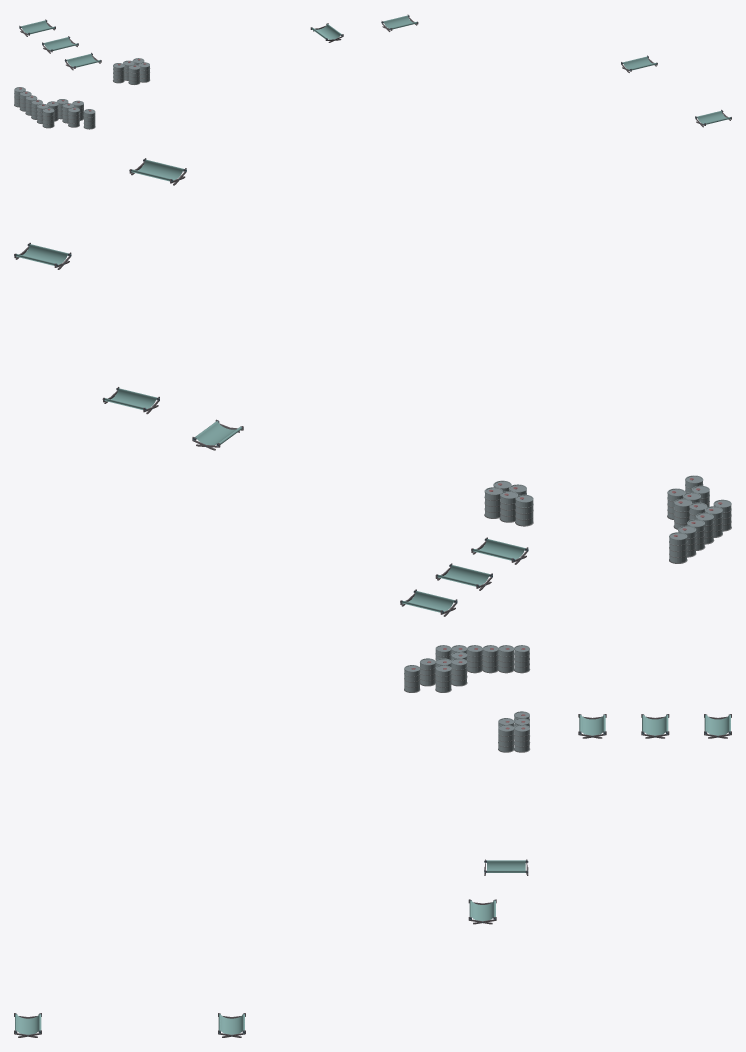
The picture shows the model from 3 angles, top to bottom: view 1: azimuth 30°, elevation 25°; view 2: azimuth 150°, elevation 25°; view 3: azimuth 270°, elevation 25°; orthographic projection. The views are drawn at different scales.
Visible parts, largest first — view 1: colored; view 2: colored; view 3: colored.
Boxes of the visible parts, left/top/right/bottom form: colored: left=14, top=14, right=731, bottom=129; colored: left=14, top=158, right=731, bottom=616; colored: left=14, top=645, right=731, bottom=1037.
Bounding box in the file's own units: 53.94 × 2.53 × 45.79.
